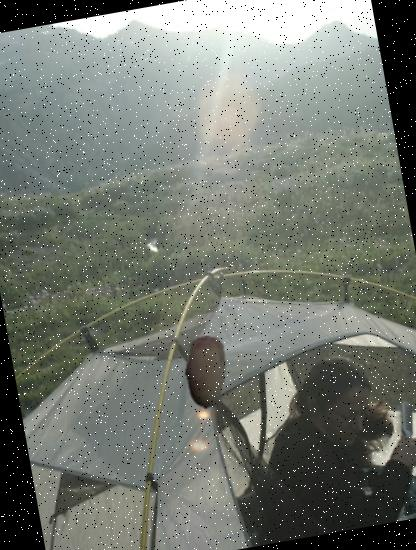Peach: (162, 329, 248, 414)
